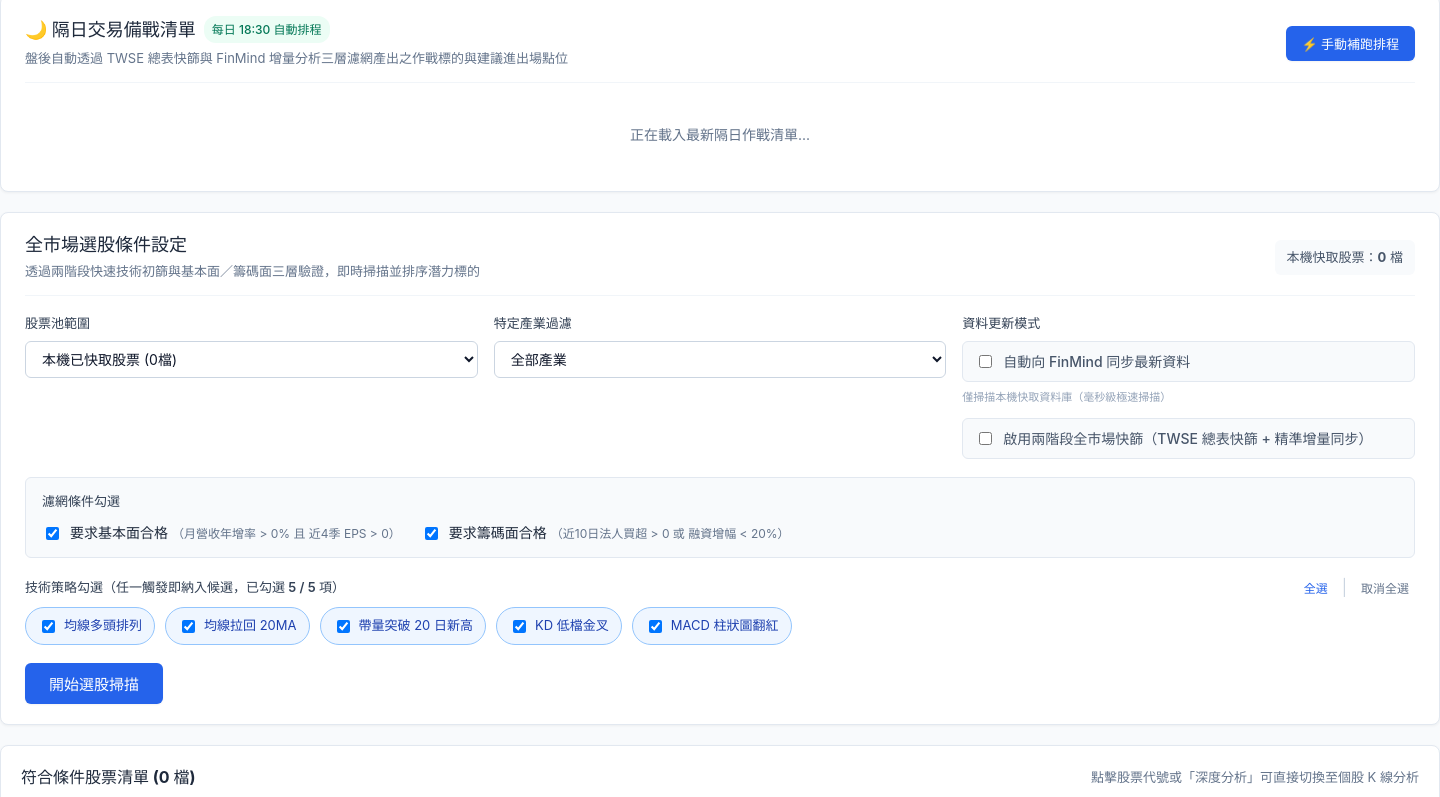
MarketScanner Component › displays quota exceeded warning banner when quota limit is hit
Click the button with test id "start-scan-btn" at (94, 683), box x1=25 y1=663 x2=163 y2=704
(page scrolled)
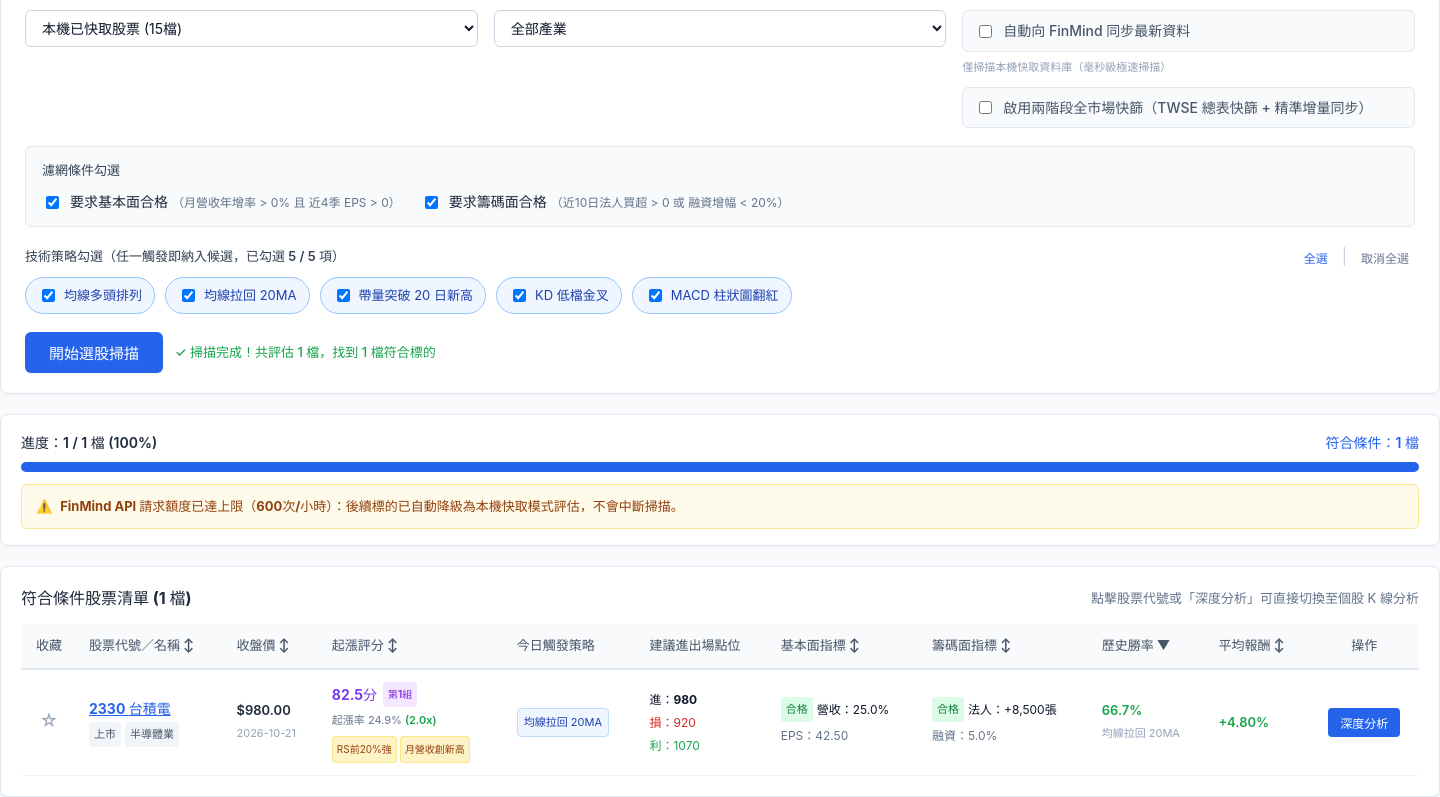
Now the element with test id "quota-exceeded-alert" is shown, box x1=21 y1=484 x2=1419 y2=529
Now the text "FinMind API 請求額度已達上限（600次/小時）" is shown, box x1=60 y1=498 x2=333 y2=514
